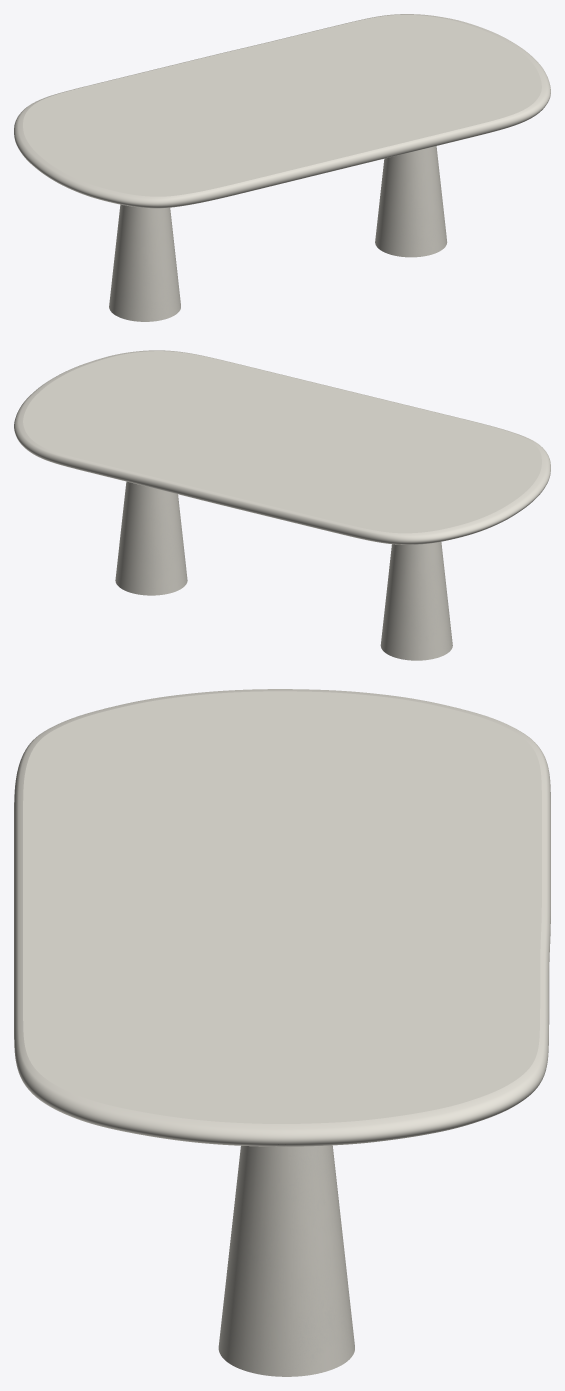
File: pale_oval_round_pebble.glb
3 renders of one model, top to bottom at view 1: azimuth 30°, elevation 25°; view 2: azimuth 150°, elevation 25°; view 3: azimuth 270°, elevation 25°, orthographic. The views are drawn at different scales.
Visible parts, largest first — view 1: round_oval, pebble; view 2: round_oval, pebble; view 3: round_oval, pebble.
Part boxes in pixels (box(x1,y1,x2,y2)): round_oval: box(14, 14, 550, 208); pebble: box(109, 146, 447, 321); round_oval: box(14, 350, 550, 544); pebble: box(115, 481, 452, 660); round_oval: box(14, 689, 550, 1146); pebble: box(218, 1145, 354, 1376).
Size of the model in its own units: 7.5 by 2.5 by 3.8.
Materials: 1 (1 with a texture image).
